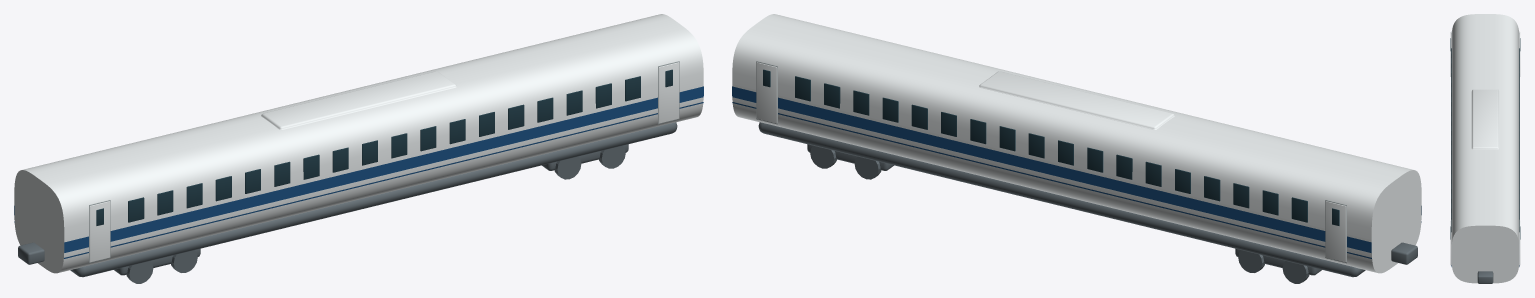
The model's file is middle.glb.
3 views of the same model, side by side, from view 1: azimuth 30°, elevation 25°; view 2: azimuth 150°, elevation 25°; view 3: azimuth 270°, elevation 25° (orthographic). The views are drawn at different scales.
Parts seen in each view (by area): view 1: Porcelain white enamel, Undercarriage, Tokaido cobalt, Smoked blue glass; view 2: Porcelain white enamel, Undercarriage, Tokaido cobalt, Smoked blue glass; view 3: Porcelain white enamel, Smoked blue glass, Undercarriage, Panel joints.
Part boxes in pixels (x1,y1,x2,y2): Porcelain white enamel: (14,14,703,273); Undercarriage: (18,122,677,283); Tokaido cobalt: (14,86,703,258); Smoked blue glass: (96,69,672,225); Porcelain white enamel: (732,14,1421,273); Undercarriage: (758,122,1417,283); Tokaido cobalt: (732,86,1421,258); Smoked blue glass: (763,69,1339,225); Porcelain white enamel: (1450,14,1520,283); Smoked blue glass: (1450,38,1520,239); Undercarriage: (1477,271,1493,283); Panel joints: (1451,31,1519,265).
Bounding box in the file's own units: 25.75 × 4.16 × 3.45.
